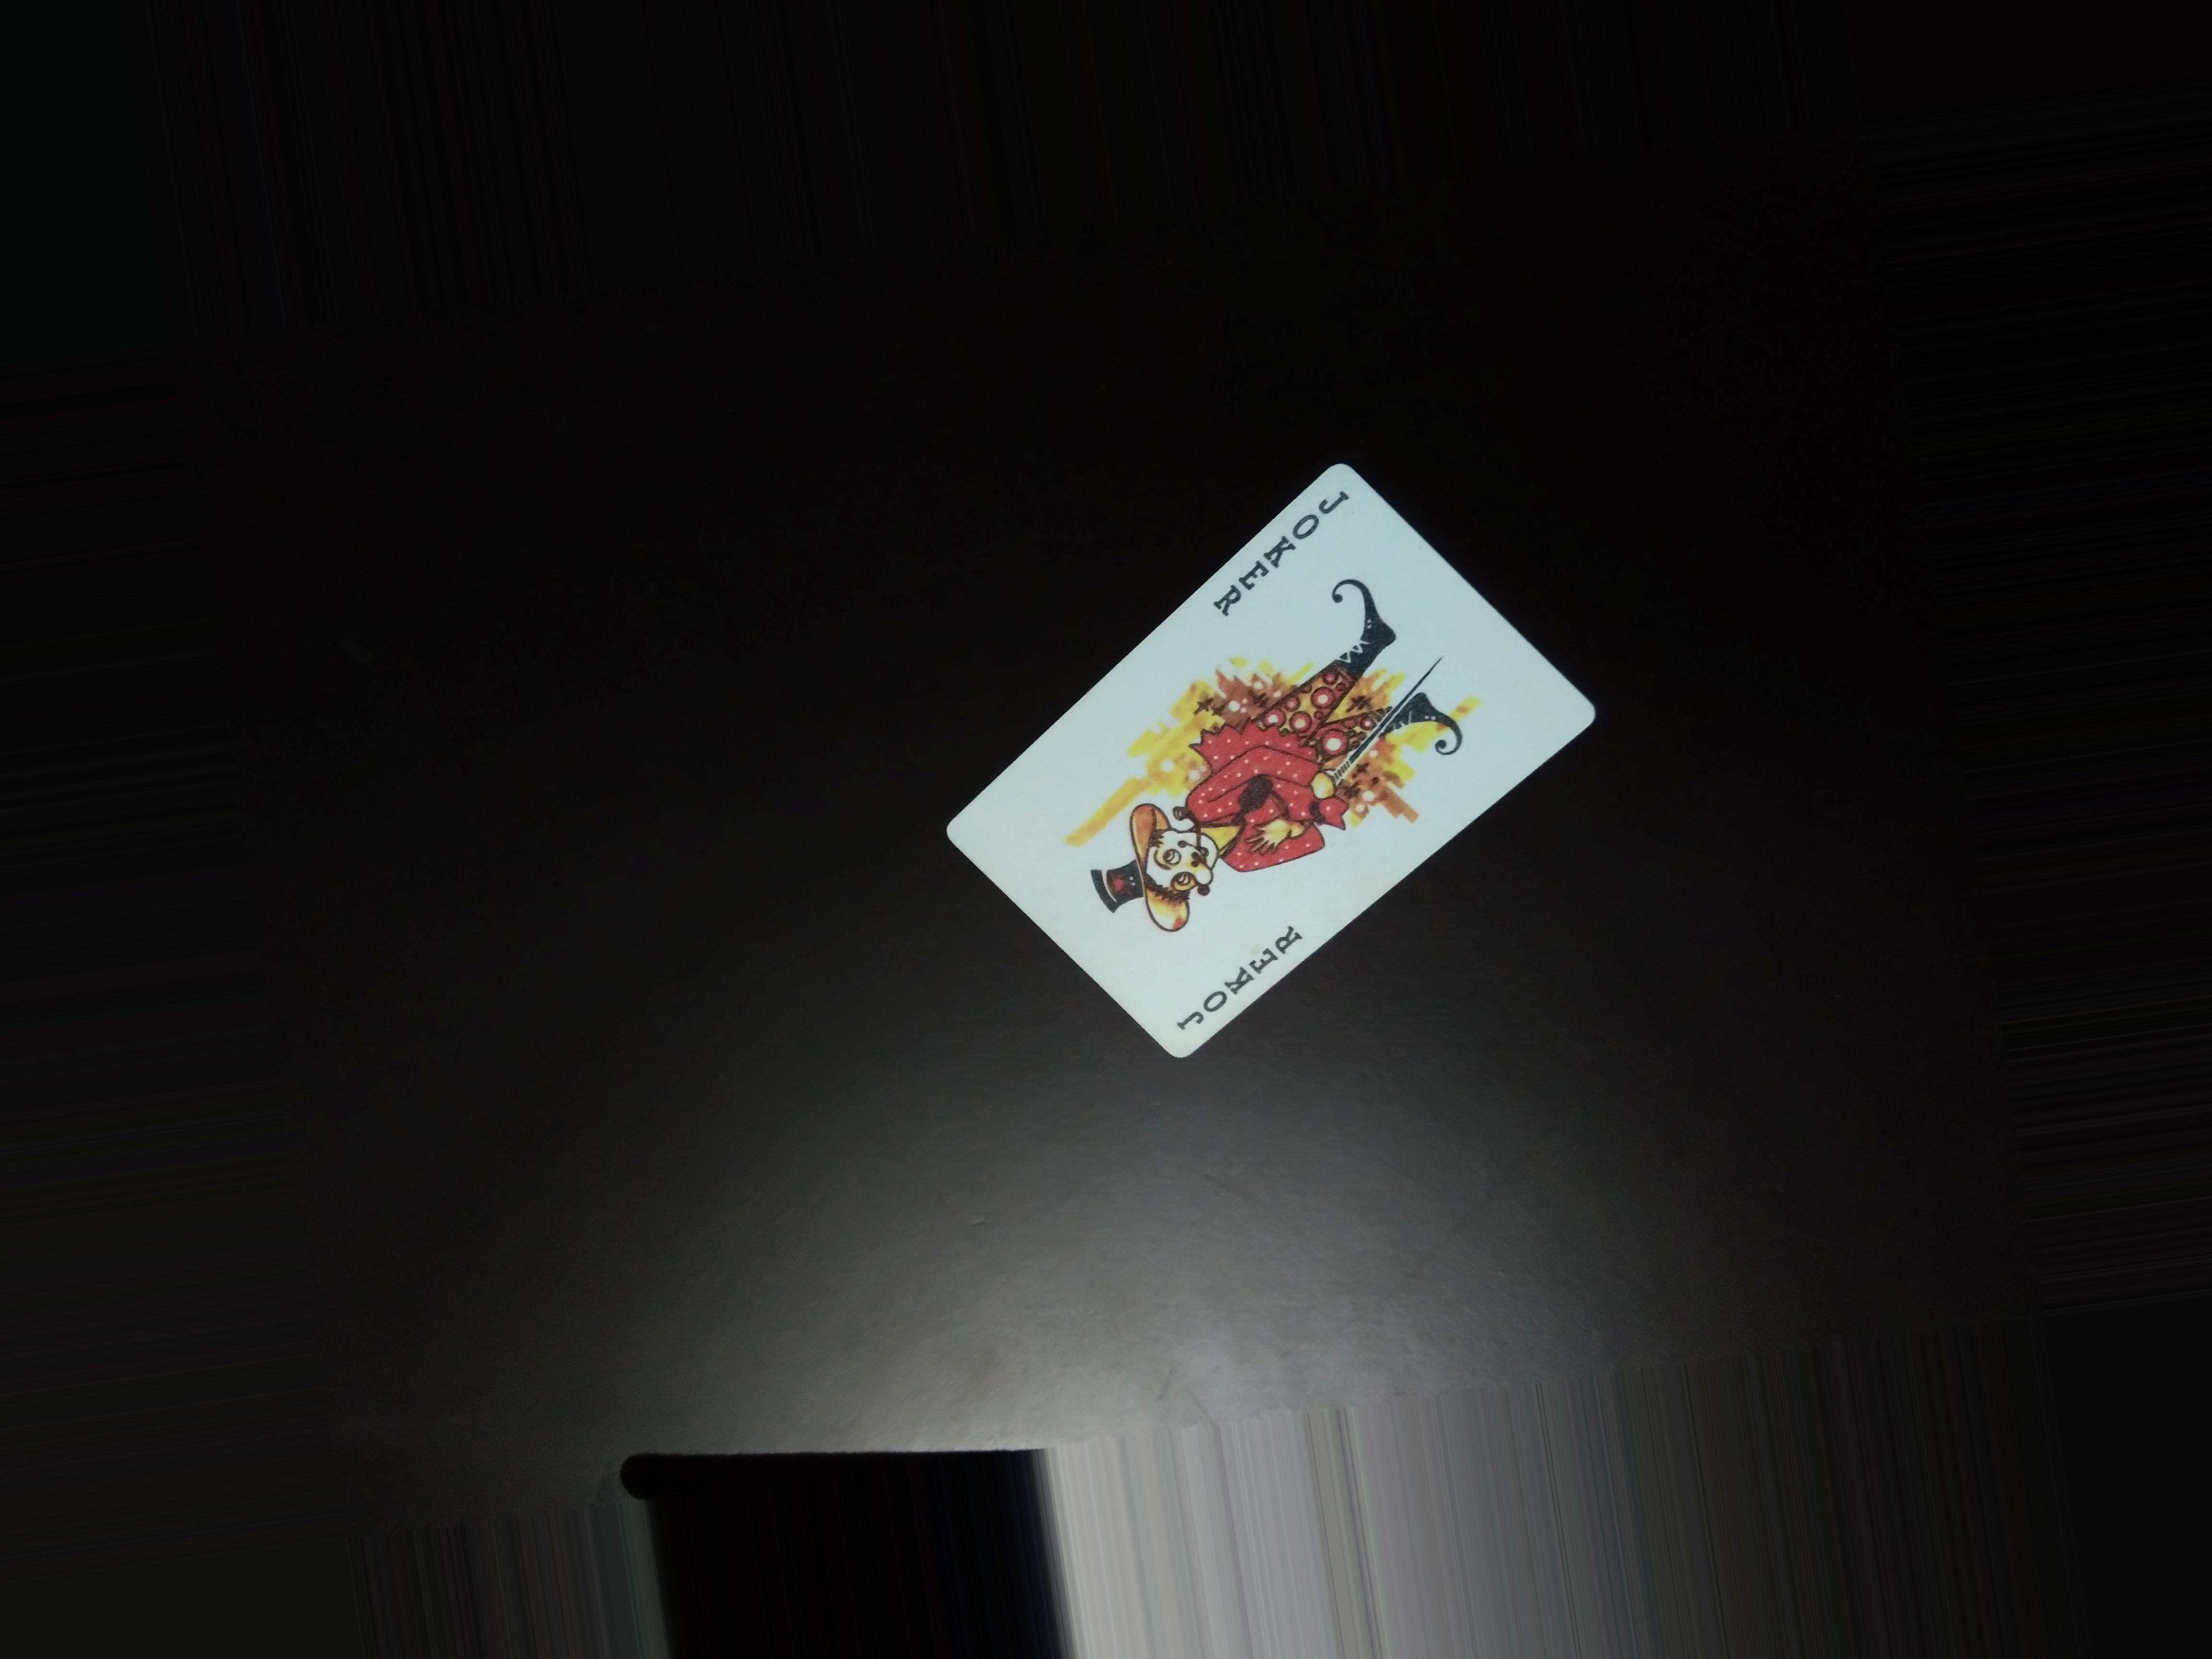JOKER: (1207, 483, 1352, 624)
